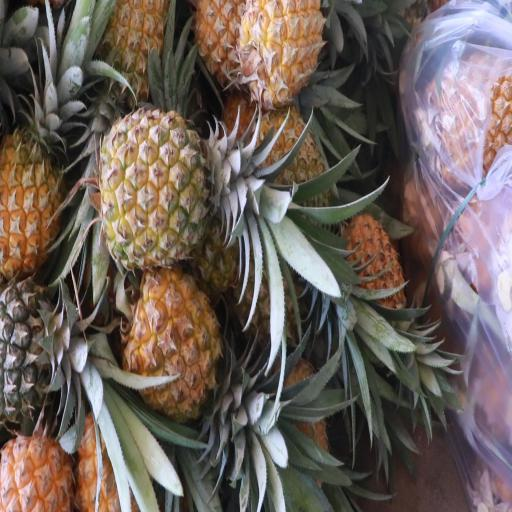Pineapple - v8 v1: (99, 112, 263, 262), (120, 253, 225, 436), (0, 96, 86, 279), (235, 0, 348, 105)
